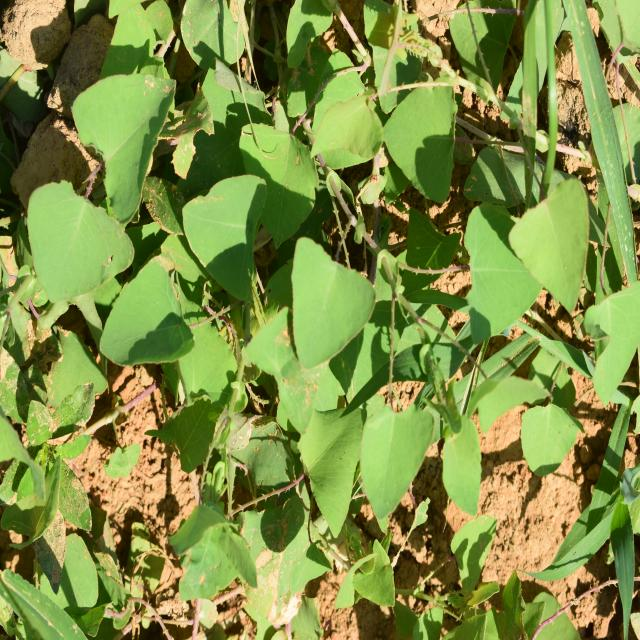Asiatic_Smartweed: (279, 178, 555, 516), (107, 167, 295, 375), (241, 55, 458, 232), (17, 78, 186, 298), (191, 486, 405, 636), (513, 162, 588, 316)
